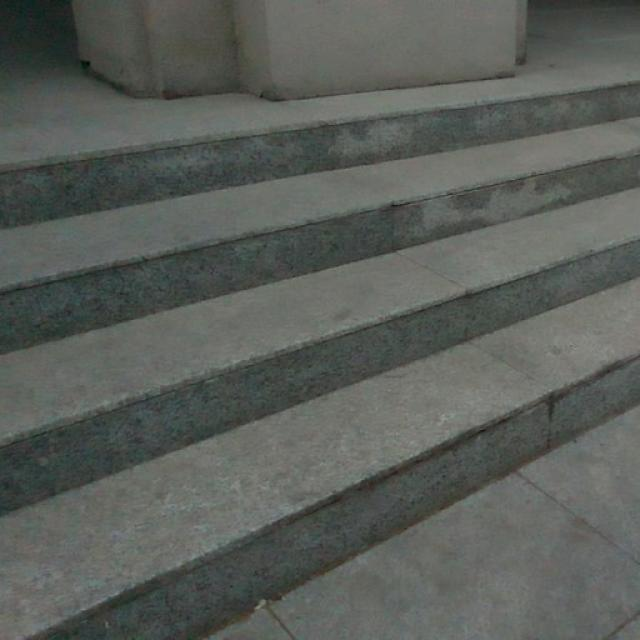Stairs: (0, 69, 639, 639)
